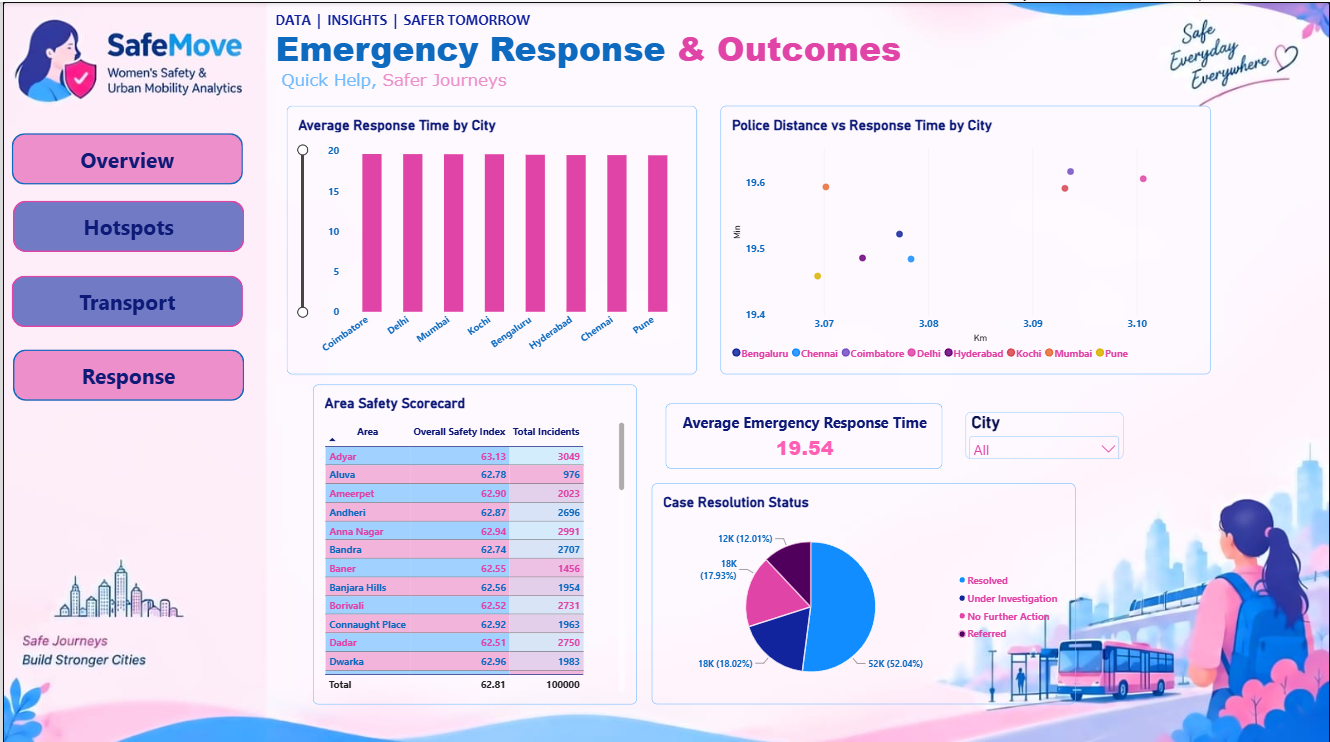

Layout of this report page (visuals, bound fields, positions):
{"tool":"powerbi","page":{"name":"Emergency Response & Outcomes","canvas":[1920,1080],"ordinal":3},"visuals":[{"type":"textbox","box":[394.5,12.7,1046,39.8],"z":0},{"type":"textbox","box":[394.5,32.6,1286.7,81.4],"z":1000},{"type":"textbox","box":[394.5,97.7,544.7,39.8],"z":2000},{"type":"lineClusteredColumnComboChart","title":"Average Response Time by City","fields":{"Category":["db.City"],"Y":["db.Average Emergency Response Time"]},"box":[410.8,150.2,593.6,389.1],"z":3000},{"type":"scatterChart","title":" Police Distance vs Response Time by City","fields":{"Series":["db.City"],"X":["Avg(db.Police_Distance_km)"],"Y":["Avg(db.Response_Time_Min)"]},"box":[1038.7,150.2,709.4,389.1],"z":4000},{"type":"pieChart","title":"Case Resolution Status","fields":{"Category":["db.Resolution_Status"],"Y":["db.Total Incidents"]},"box":[939.2,696.7,613.5,320.3],"z":5000},{"type":"tableEx","title":"Area Safety Scorecard","fields":{"Values":["db.Area","db.Overall Safety Index","db.Total Incidents"]},"box":[448.8,553.8,468.7,463.3],"z":6000},{"type":"slicer","fields":{"Values":["db.City"]},"box":[1393.4,593.6,228.5,67.9],"z":7000},{"type":"cardVisual","fields":{"Data":["db.Average Emergency Response Time"]},"box":[959.1,580.9,401.7,95.9],"z":8000},{"type":"shape","box":[12.7,190,334.8,74.2],"z":9000},{"type":"shape","box":[14.5,287.7,334.8,74.2],"z":10000},{"type":"shape","box":[12.7,396.3,334.8,74.2],"z":11000},{"type":"shape","box":[14.5,503.1,334.8,74.2],"z":12000}]}

Visuals, with their boxes in screenshot pixels (x1, y1, x2, y2), scaled from the page's 1920x1080 canvas onto the 1330x742 screenshot:
textbox: [273, 9, 998, 36]
textbox: [273, 22, 1165, 78]
textbox: [273, 67, 651, 94]
"Average Response Time by City" lineClusteredColumnComboChart: [285, 103, 696, 371]
" Police Distance vs Response Time by City" scatterChart: [720, 103, 1211, 371]
"Case Resolution Status" pieChart: [651, 479, 1076, 699]
"Area Safety Scorecard" tableEx: [311, 380, 636, 699]
slicer - db.City: [965, 408, 1124, 454]
cardVisual - db.Average Emergency Response Time: [664, 399, 943, 465]
shape: [9, 131, 241, 182]
shape: [10, 198, 242, 249]
shape: [9, 272, 241, 323]
shape: [10, 346, 242, 397]
